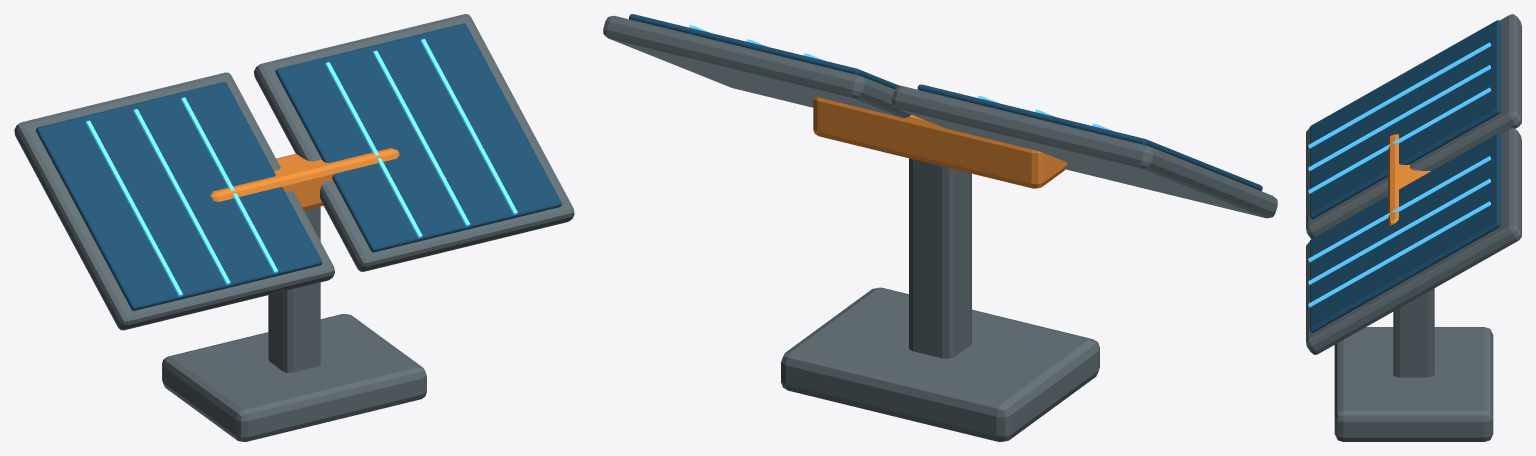
Rendered from mh_solar_array.glb.
3 views of the same model, side by side, from view 1: azimuth 30°, elevation 25°; view 2: azimuth 150°, elevation 25°; view 3: azimuth 270°, elevation 25° (orthographic). The views are drawn at different scales.
Parts seen in each view (by area): view 1: Solar photovoltaic surface, Solar photovoltaic surface.001, Solar footing, Solar panel backing, Solar panel backing.001, Solar mast, Solar hinge, Solar cell divider.005, Solar cell divider.004, Solar cell divider, Solar cell divider.001, Solar cell divider.003 (+1 smaller); view 2: Solar footing, Solar panel backing, Solar mast, Solar panel backing.001, Solar hinge, Solar photovoltaic surface, Solar photovoltaic surface.001; view 3: Solar footing, Solar photovoltaic surface.001, Solar photovoltaic surface, Solar panel backing.001, Solar panel backing, Solar mast, Solar hinge, Solar cell divider, Solar cell divider.004, Solar cell divider.005, Solar cell divider.001, Solar cell divider.003 (+1 smaller).
Part boxes in pixels (x1,y1,x2,y2): Solar photovoltaic surface: (36, 82, 322, 310); Solar photovoltaic surface.001: (275, 23, 561, 252); Solar footing: (162, 314, 426, 441); Solar panel backing: (14, 72, 334, 330); Solar panel backing.001: (254, 14, 574, 271); Solar mast: (268, 206, 320, 372); Solar hinge: (210, 148, 399, 210); Solar cell divider.005: (420, 39, 517, 214); Solar cell divider.004: (373, 50, 470, 226); Solar cell divider: (85, 120, 182, 296); Solar cell divider.001: (133, 109, 230, 285); Solar cell divider.003: (325, 62, 422, 238); Solar footing: (781, 287, 1099, 441); Solar panel backing: (891, 86, 1277, 218); Solar mast: (909, 158, 971, 358); Solar panel backing.001: (603, 15, 910, 118); Solar hinge: (813, 85, 1067, 188); Solar photovoltaic surface: (917, 84, 1262, 190); Solar photovoltaic surface.001: (629, 14, 900, 89); Solar footing: (1334, 327, 1493, 441); Solar photovoltaic surface.001: (1309, 133, 1500, 332); Solar photovoltaic surface: (1309, 20, 1500, 218); Solar panel backing.001: (1306, 127, 1521, 354); Solar panel backing: (1306, 14, 1521, 238); Solar mast: (1393, 288, 1434, 377); Solar hinge: (1388, 134, 1430, 225); Solar cell divider: (1308, 42, 1490, 148); Solar cell divider.004: (1308, 178, 1490, 284); Solar cell divider.005: (1308, 201, 1490, 307); Solar cell divider.001: (1308, 65, 1490, 170); Solar cell divider.003: (1308, 156, 1490, 262).
Size of the model in its own units: 2.96 by 1.79 by 1.25.
